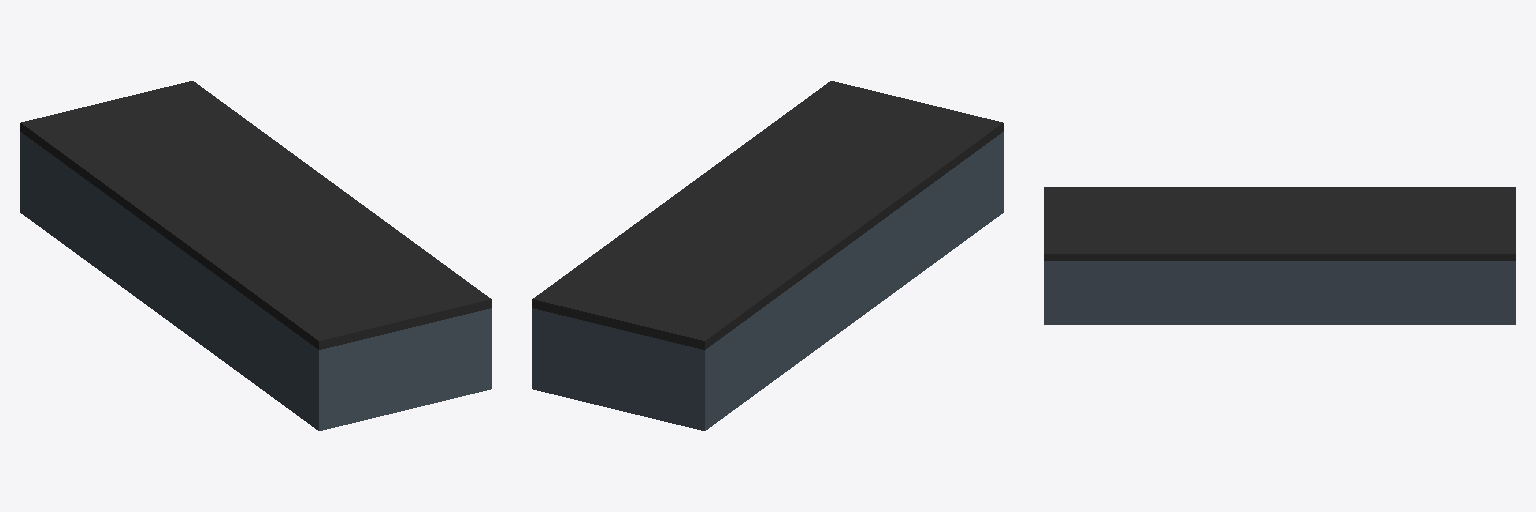
URDF robot description (plank):
<?xml version="0.0" ?>
<robot name="plank">
    <link name="base">
        <contact>
            <lateral_friction value="0.8"/>
        </contact>
        <inertial>
            <origin rpy="0 0 0" xyz="0 0 -0.275"/>
            <mass value="0"/>
            <inertia ixx="1" ixy="0" ixz="0" iyy="1" iyz="0" izz="1"/>
        </inertial>
        <visual>
            <origin rpy="0 0 0" xyz="0 0 -0.275"/>
            <geometry>
                <box size="1 3 0.45"/>
            </geometry>
            <material name="grey">
                <color rgba="0.345 0.388 0.431 1"/>
            </material>
        </visual>
        <collision>
            <origin rpy="0 0 0" xyz="0 0 -0.275"/>
            <geometry>
                <box size="1 3 0.45"/>
            </geometry>
        </collision>
    </link>
    <link name="cover">
        <contact>
            <lateral_friction value="0.8"/>
        </contact>
        <inertial>
            <origin rpy="0 0 0" xyz="0 0 -0.025"/>
            <mass value="0"/>
            <inertia ixx="1" ixy="0" ixz="0" iyy="1" iyz="0" izz="1"/>
        </inertial>
        <visual>
            <origin rpy="0 0 0" xyz="0 0 -0.025"/>
            <geometry>
                <box size="1 3 0.05"/>
            </geometry>
            <material name="black">
                <color rgba="0.216 0.216 0.216 1"/>
            </material>
        </visual>
        <collision>
            <origin rpy="0 0 0" xyz="0 0 -0.025"/>
            <geometry>
                <box size="1 3 0.05"/>
            </geometry>
        </collision>
    </link>
    <joint name="base" type="fixed">
        <origin rpy="0 0 0" xyz="0 0 0"/>
        <parent link="base"/>
        <child link="cover"/>
    </joint>
</robot>

--- Render facts (derived) ---
The picture shows the robot from 3 angles, left to right: view 1: azimuth 30°, elevation 25°; view 2: azimuth 150°, elevation 25°; view 3: azimuth 270°, elevation 25°; orthographic projection.
Robot: plank — 2 links, 1 joints (1 fixed); root link base; default pose: all joints at 0.
Visible links, largest first — view 1: cover, base; view 2: cover, base; view 3: cover, base.
Boxes of the visible links, x1,y1,x2,y2 form: cover: (20,81,491,349); base: (20,132,491,430); cover: (532,81,1003,349); base: (532,132,1003,430); cover: (1044,187,1515,260); base: (1044,261,1515,324).
Bounding box of the posed robot: 1 × 3 × 0.5 m (x, y, z).
Geometry: primitives only (box / cylinder / sphere), no mesh files.